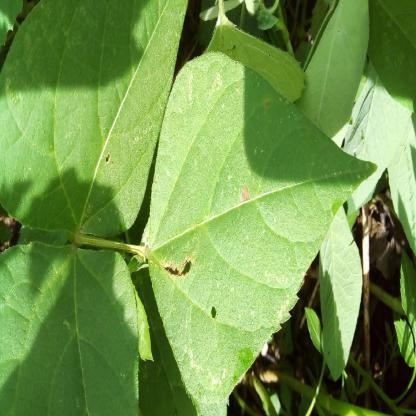Beans_Angular_LeafSpot: (150, 46, 380, 416)
